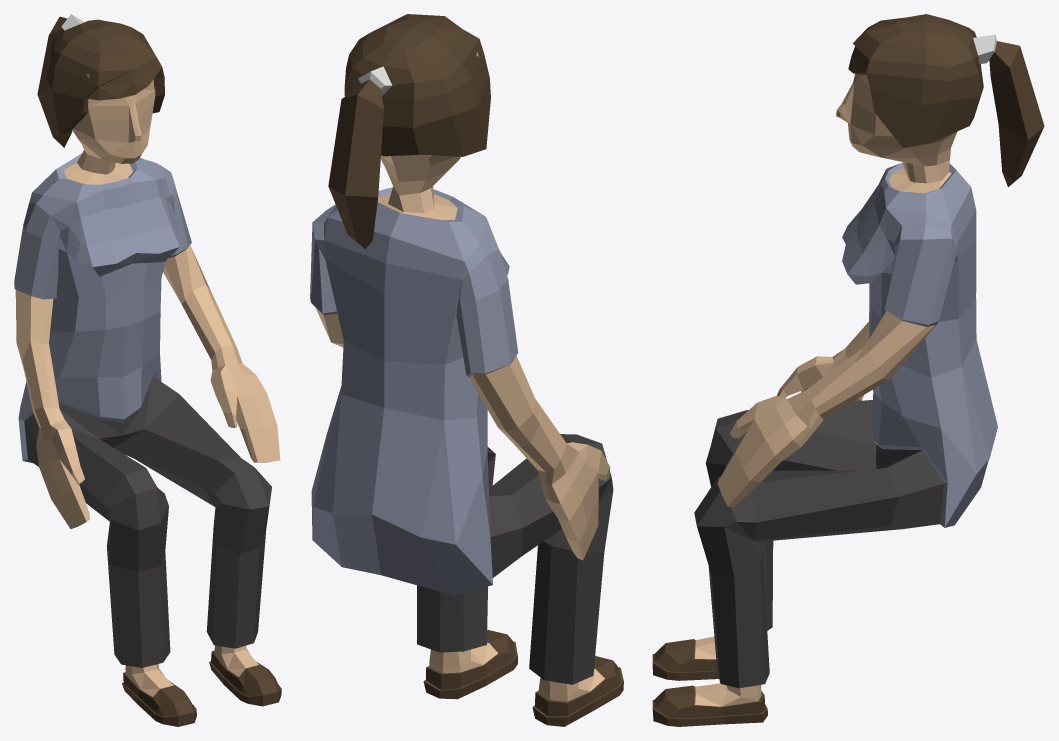
File: Female_Sitting.glb
3 renders of one model, left to right at view 1: azimuth 30°, elevation 25°; view 2: azimuth 150°, elevation 25°; view 3: azimuth 270°, elevation 25°, orthographic. The views are drawn at different scales.
Visible parts, largest first — view 1: Female_Sitting; view 2: Female_Sitting; view 3: Female_Sitting.
Boxes of the visible parts, x1=… form: Female_Sitting: x1=14, y1=14, x2=281, y2=726; Female_Sitting: x1=310, y1=14, x2=623, y2=726; Female_Sitting: x1=652, y1=14, x2=1044, y2=726.
Size of the model in its own units: 0.457 by 1.35 by 0.7168.
